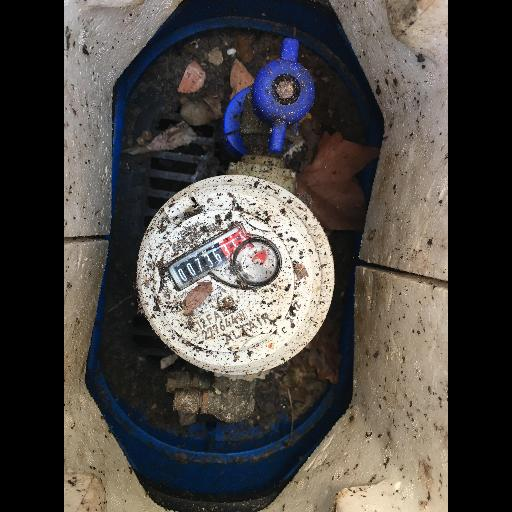0: (173, 264, 191, 285), (182, 259, 200, 280)
3: (198, 248, 218, 271), (217, 239, 236, 262)
5: (225, 233, 242, 253), (233, 228, 248, 245)
6: (208, 243, 227, 266)
7: (192, 254, 209, 275)
border_water_meter_number: (167, 223, 257, 291)
